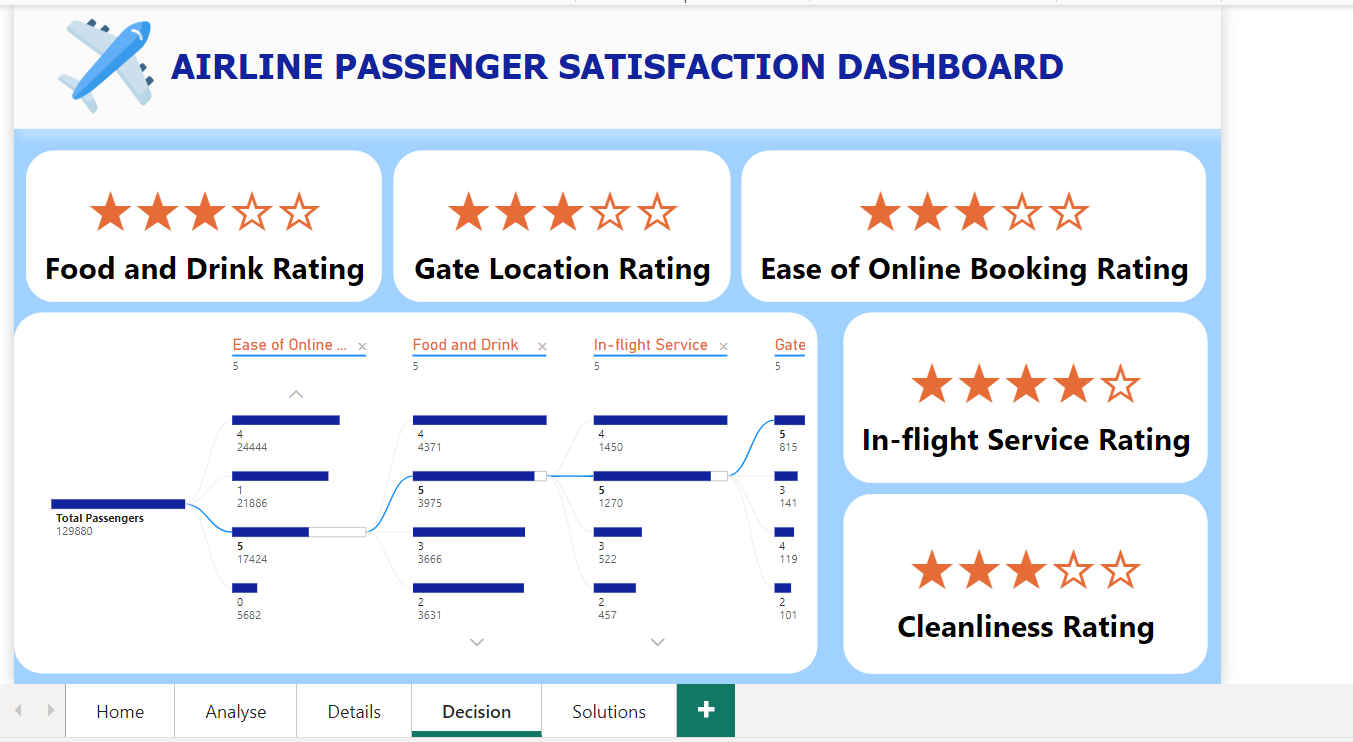

The page's visual inventory and layout, read from the dashboard file:
{"tool":"powerbi","page":{"name":"Decision","canvas":[1280,720],"ordinal":3},"visuals":[{"type":"textbox","box":[0,0,1280,131.2],"z":0},{"type":"decompositionTreeVisual","fields":{"Analyze":["airline_passenger_satisfaction.Total Passengers"],"ExplainBy":["airline_passenger_satisfaction.Ease of Online Booking","airline_passenger_satisfaction.Food and Drink","airline_passenger_satisfaction.In-flight Service","airline_passenger_satisfaction.Gate Location","airline_passenger_satisfaction.Cleanliness","airline_passenger_satisfaction.Class","airline_passenger_satisfaction.Type of Travel"]},"box":[0,325.8,852.2,382.7],"z":1000},{"type":"card","fields":{"Values":["airline_passenger_satisfaction.Cleanliness Rating"]},"box":[879,518,386,190.5],"z":2000},{"type":"card","fields":{"Values":["airline_passenger_satisfaction.Ease of Online Booking Rating"]},"box":[772,153.7,493,160.4],"z":3000},{"type":"card","fields":{"Values":["airline_passenger_satisfaction.Food and Drink Rating"]},"box":[13.4,153.7,377.7,160.4],"z":4000},{"type":"card","fields":{"Values":["airline_passenger_satisfaction.In-flight Service Rating"]},"box":[879,325.8,386,180.5],"z":5000},{"type":"card","fields":{"Values":["airline_passenger_satisfaction.Gate Location Rating"]},"box":[402.7,153.7,357.6,160.4],"z":6000},{"type":"image","box":[41.8,6.7,112,117],"z":8000}]}

Visuals, with their boxes on the page's 1280x720 design canvas (x1, y1, x2, y2). These are canvas units, not pixel positions in the 1353x742 screenshot, which may show the page scaled, cropped or inside an application window:
textbox: pyautogui.locateOnScreen(0, 0, 1280, 131)
decompositionTreeVisual - airline_passenger_satisfaction.Total Passengers x airline_passenger_satisfaction.Ease of Online Booking: pyautogui.locateOnScreen(0, 326, 852, 708)
card - airline_passenger_satisfaction.Cleanliness Rating: pyautogui.locateOnScreen(879, 518, 1265, 708)
card - airline_passenger_satisfaction.Ease of Online Booking Rating: pyautogui.locateOnScreen(772, 154, 1265, 314)
card - airline_passenger_satisfaction.Food and Drink Rating: pyautogui.locateOnScreen(13, 154, 391, 314)
card - airline_passenger_satisfaction.In-flight Service Rating: pyautogui.locateOnScreen(879, 326, 1265, 506)
card - airline_passenger_satisfaction.Gate Location Rating: pyautogui.locateOnScreen(403, 154, 760, 314)
image: pyautogui.locateOnScreen(42, 7, 154, 124)
